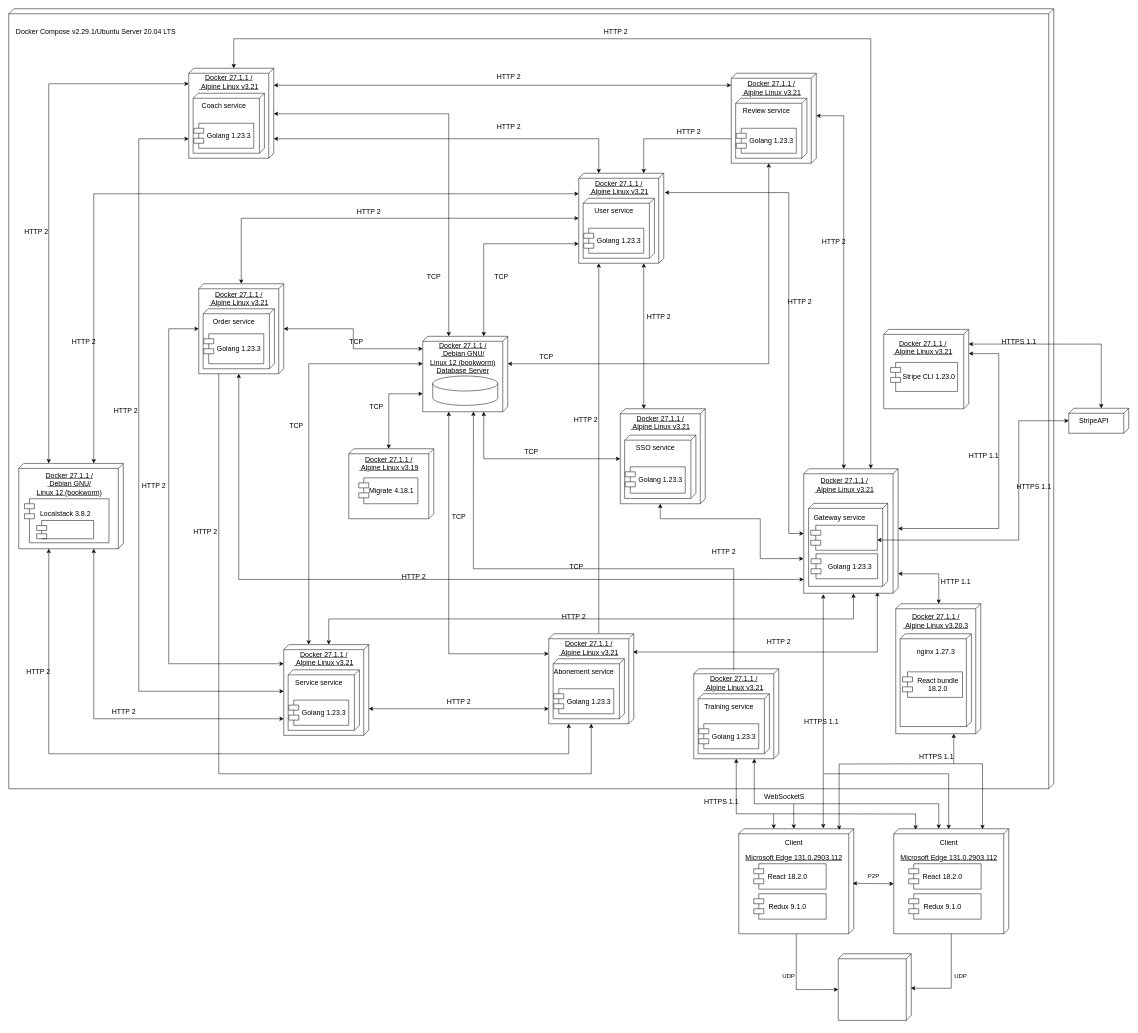
The diagram is 1138 pixels wide and 1033 high, and some of its shapes have lost their labels. The centre of each missing label's shape, as x and y in pixels:
Google Stun Server: (874,986)
PostgreSQL 17: (465,390)
S3: (65,529)
Stripe 79.12.0: (843,537)
